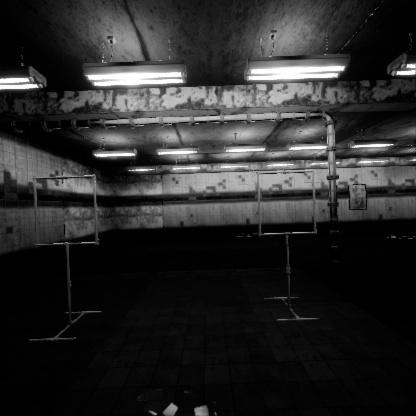gate: (34, 168, 104, 241), (257, 179, 321, 246)
